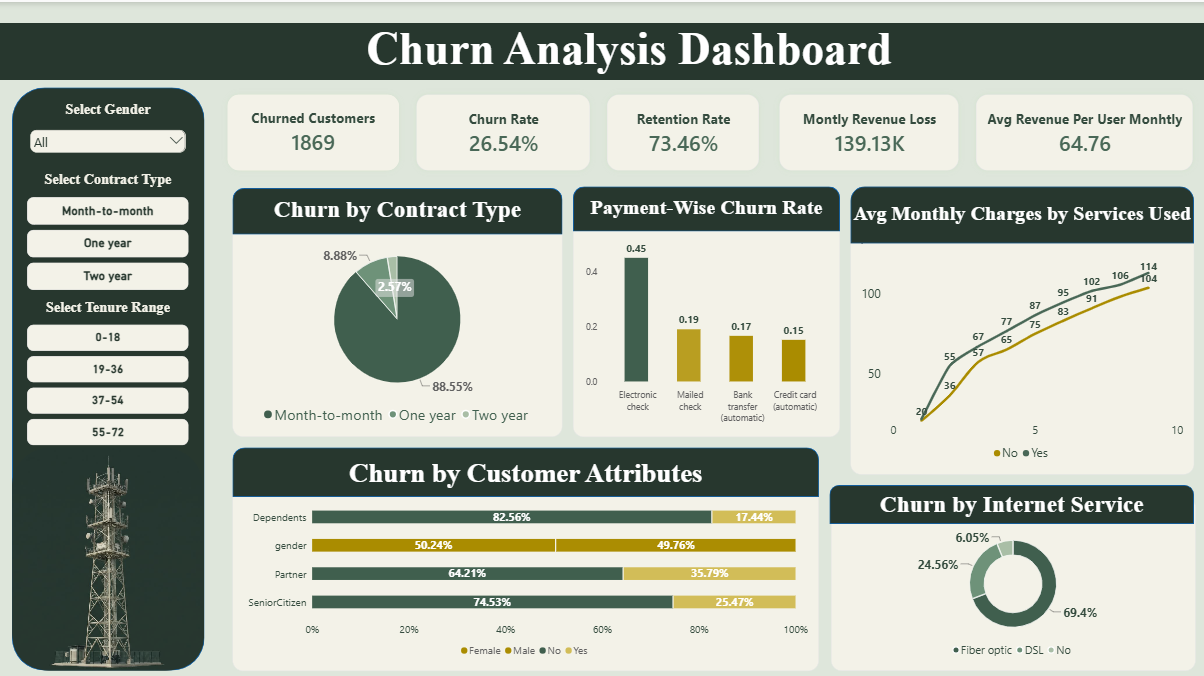

This screenshot's page, from the dashboard's own definition file:
{"tool":"powerbi","page":{"name":"Churn Analysis","canvas":[1920,1080],"ordinal":0},"visuals":[{"type":"shape","box":[23.1,135.8,306.2,927.3],"z":500},{"type":"image","box":[23.9,708.6,303,355.5],"z":750},{"type":"advancedSlicerVisual","title":"Select Tenure Range ","fields":{"Values":["All customers.Tenure_Range"]},"box":[47.7,472.4,257.7,236.2],"z":1000},{"type":"cardVisual","fields":{"Data":["Measure.Total_churned_customers"]},"box":[354.7,136.8,295.9,143.2],"z":3000},{"type":"cardVisual","fields":{"Data":["Measure.Churn_rate"]},"box":[655.3,136.8,298.2,143.2],"z":4000},{"type":"cardVisual","fields":{"Data":["Measure.Retention_rate"]},"box":[958.3,136.8,264.8,143.2],"z":5000},{"type":"cardVisual","fields":{"Data":["Measure.Montly_revenue_loss"]},"box":[1232.7,136.8,307.8,143.2],"z":6000},{"type":"cardVisual","fields":{"Data":["Measure.Avg_revenue_per_user_monthly"]},"box":[1545.3,136.8,367.4,143.2],"z":7000},{"type":"pieChart","title":" Churn By Contact Type","fields":{"Category":["All customers.Contract"],"Y":["Measure.Total_churned_customers"]},"box":[374.6,307.8,524.9,384.1],"z":8000},{"type":"columnChart","title":" ","fields":{"Category":["All customers.PaymentMethod"],"Y":["Measure.Churn_rate"]},"box":[916.2,317.3,424.7,374.6],"z":9000},{"type":"lineChart","title":".","fields":{"Category":["All customers.TotalServices"],"Series":["All customers.Churn"],"Y":["Avg(All customers.MonthlyCharges)"]},"box":[1357.6,331.6,546.4,419.9],"z":10000},{"type":"hundredPercentStackedBarChart","title":" . ","fields":{"Category":["customer_attribute.Attribute"],"Series":["customer_attribute.Value"],"Y":["Measure.Total_churned_customers"]},"box":[374.6,768.3,932.9,295.9],"z":11000},{"type":"donutChart","title":".","fields":{"Category":["All customers.InternetService"],"Y":["Measure.Total_churned_customers"]},"box":[1324.2,787.4,580,276.8],"z":12000},{"type":"textbox","box":[0,33.4,1920.7,90.7],"z":14000},{"type":"shape","box":[374.6,295.9,524.9,74],"z":14500},{"type":"textbox","box":[374.6,307.8,524.9,57.3],"z":15000},{"type":"shape","box":[916.2,293.5,424.7,71.6],"z":16000},{"type":"textbox","box":[916.2,307.8,424.7,45.3],"z":17000},{"type":"shape","box":[1357.6,293.5,546.4,90.7],"z":18000},{"type":"textbox","box":[1357.6,317.3,546.4,109.8],"z":19000},{"type":"shape","box":[374.6,708.6,932.9,78.7],"z":20000},{"type":"textbox","box":[374.6,725.3,932.9,62],"z":21000},{"type":"shape","box":[1324.2,768.3,579.8,62],"z":22000},{"type":"textbox","box":[1324.2,778,579.8,50.1],"z":23000},{"type":"advancedSlicerVisual","title":"Select Contract Type","fields":{"Values":["All customers.Contract"]},"box":[47.7,269.6,257.7,190.9],"z":23001},{"type":"slicer","title":"Select Gender ","fields":{"Values":["All customers.gender"]},"box":[47.7,157.5,257.7,112.1],"z":23002}]}

Visuals, with their boxes in screenshot pixels (x1, y1, x2, y2), scaled from the page's 1920x1080 canvas onto the 1204x676 screenshot:
shape: region(14, 85, 206, 665)
image: region(15, 444, 205, 666)
"Select Tenure Range " advancedSlicerVisual: region(30, 296, 192, 444)
cardVisual - Measure.Total_churned_customers: region(222, 86, 408, 175)
cardVisual - Measure.Churn_rate: region(411, 86, 598, 175)
cardVisual - Measure.Retention_rate: region(601, 86, 767, 175)
cardVisual - Measure.Montly_revenue_loss: region(773, 86, 966, 175)
cardVisual - Measure.Avg_revenue_per_user_monthly: region(969, 86, 1199, 175)
" Churn By Contact Type" pieChart: region(235, 193, 564, 433)
" " columnChart: region(575, 199, 841, 433)
"." lineChart: region(851, 208, 1194, 470)
" . " hundredPercentStackedBarChart: region(235, 481, 820, 666)
"." donutChart: region(830, 493, 1194, 666)
textbox: region(0, 21, 1203, 78)
shape: region(235, 185, 564, 232)
textbox: region(235, 193, 564, 229)
shape: region(575, 184, 841, 229)
textbox: region(575, 193, 841, 221)
shape: region(851, 184, 1194, 240)
textbox: region(851, 199, 1194, 267)
shape: region(235, 444, 820, 493)
textbox: region(235, 454, 820, 493)
shape: region(830, 481, 1194, 520)
textbox: region(830, 487, 1194, 518)
"Select Contract Type" advancedSlicerVisual: region(30, 169, 192, 288)
"Select Gender " slicer: region(30, 99, 192, 169)
